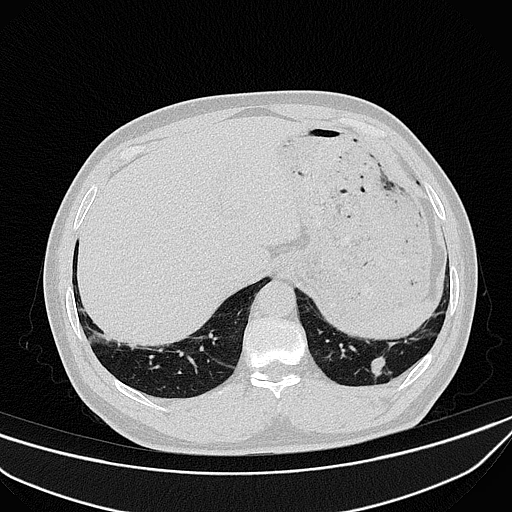nodule: (369, 355, 386, 377)
